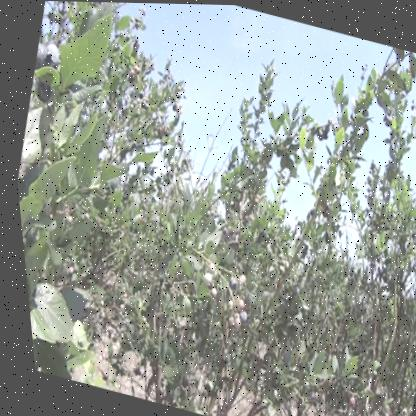intermediate: (229, 296, 243, 315), (338, 395, 352, 410)
mature: (34, 46, 59, 68), (220, 273, 235, 290), (232, 309, 244, 323)
young: (197, 270, 210, 287), (200, 261, 213, 273)
